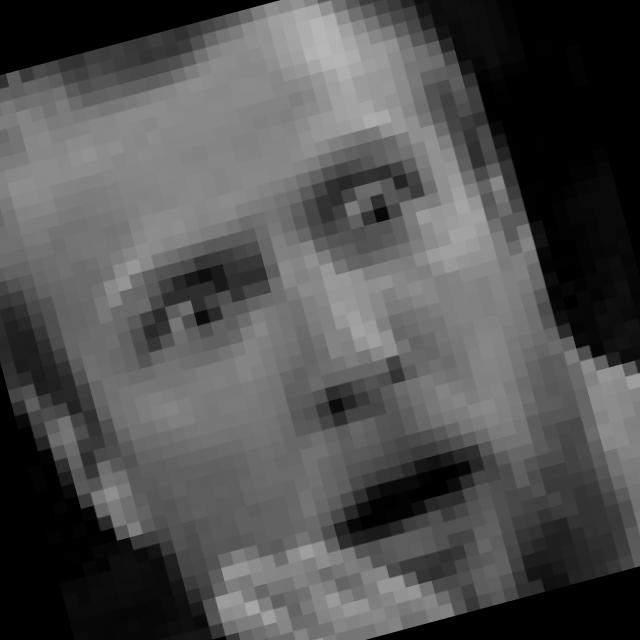surprise: (91, 120, 529, 626)
